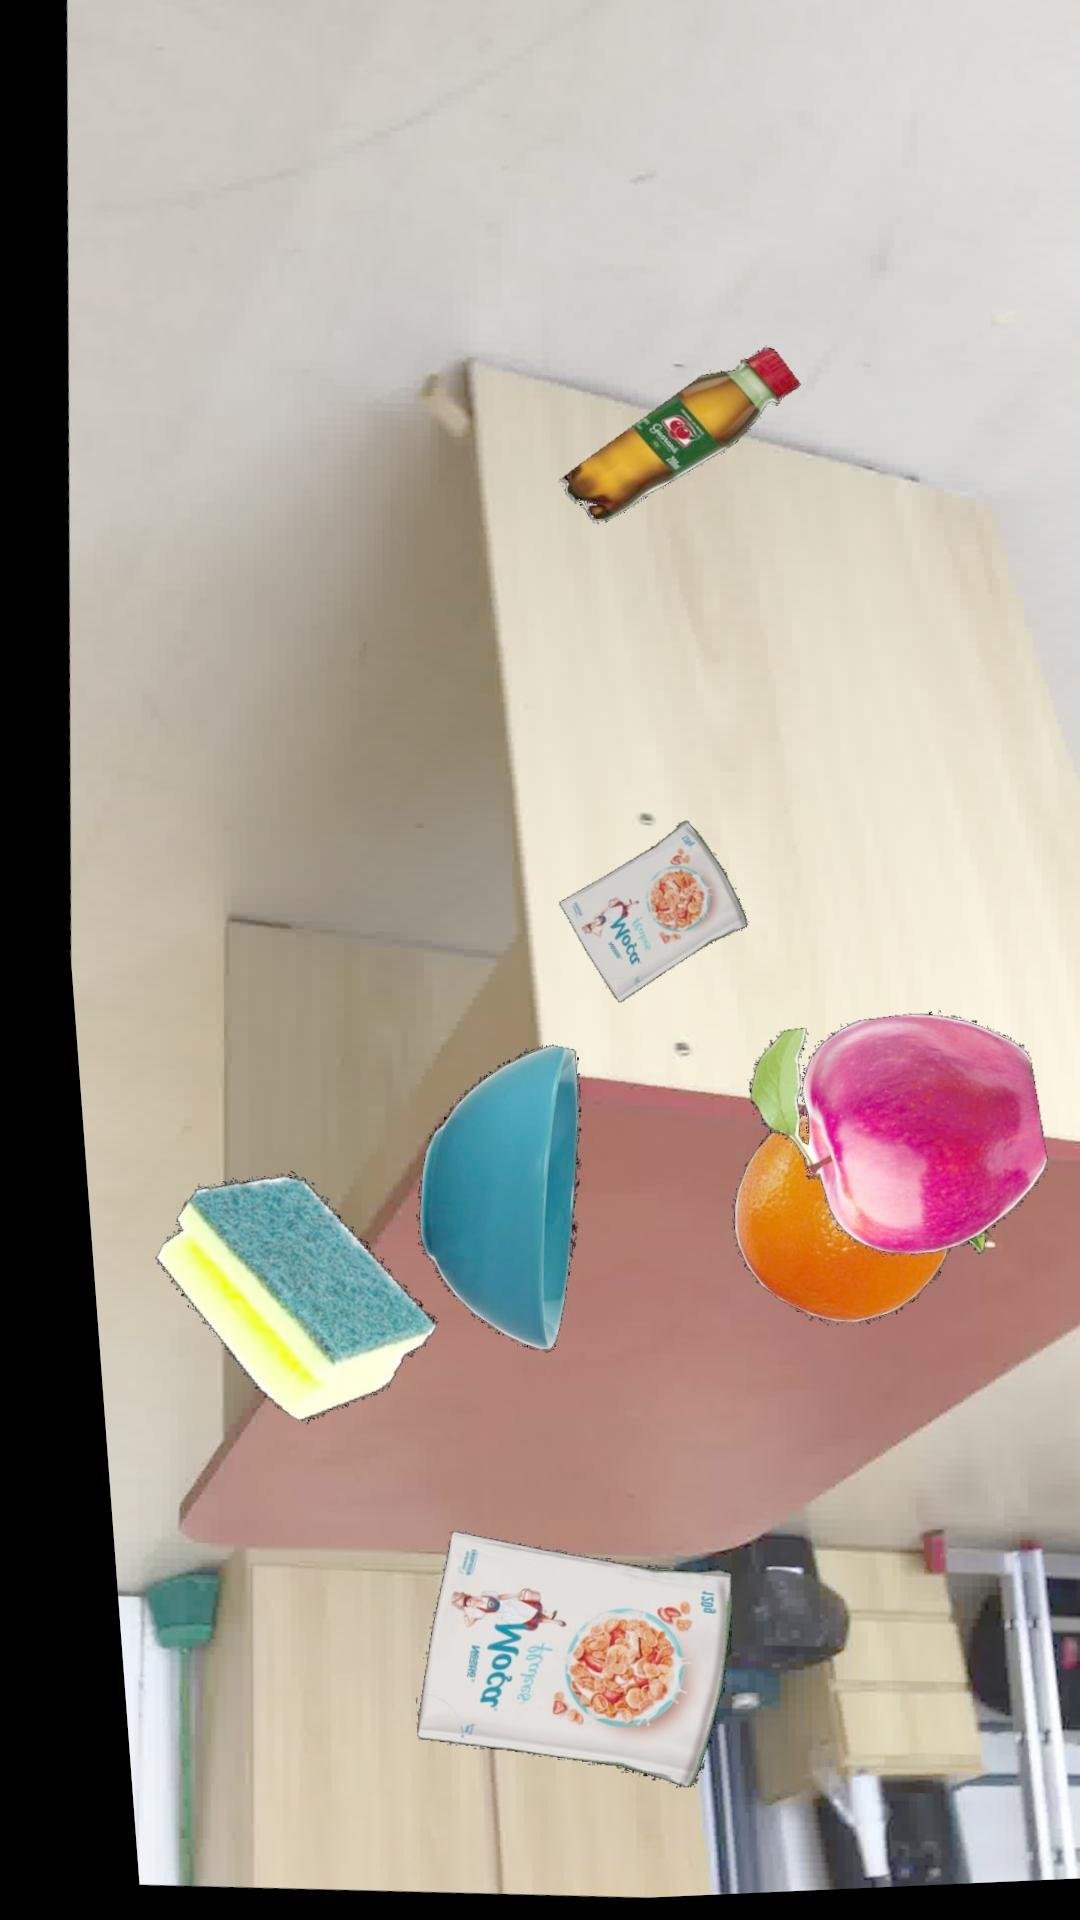apple: (731, 1019, 1029, 1263)
bowl: (397, 1050, 563, 1356)
corn flakes: (390, 1535, 707, 1793), (545, 827, 733, 1007)
guarana: (553, 355, 794, 529)
orange: (713, 1121, 967, 1333)
sponge: (136, 1178, 415, 1424)
